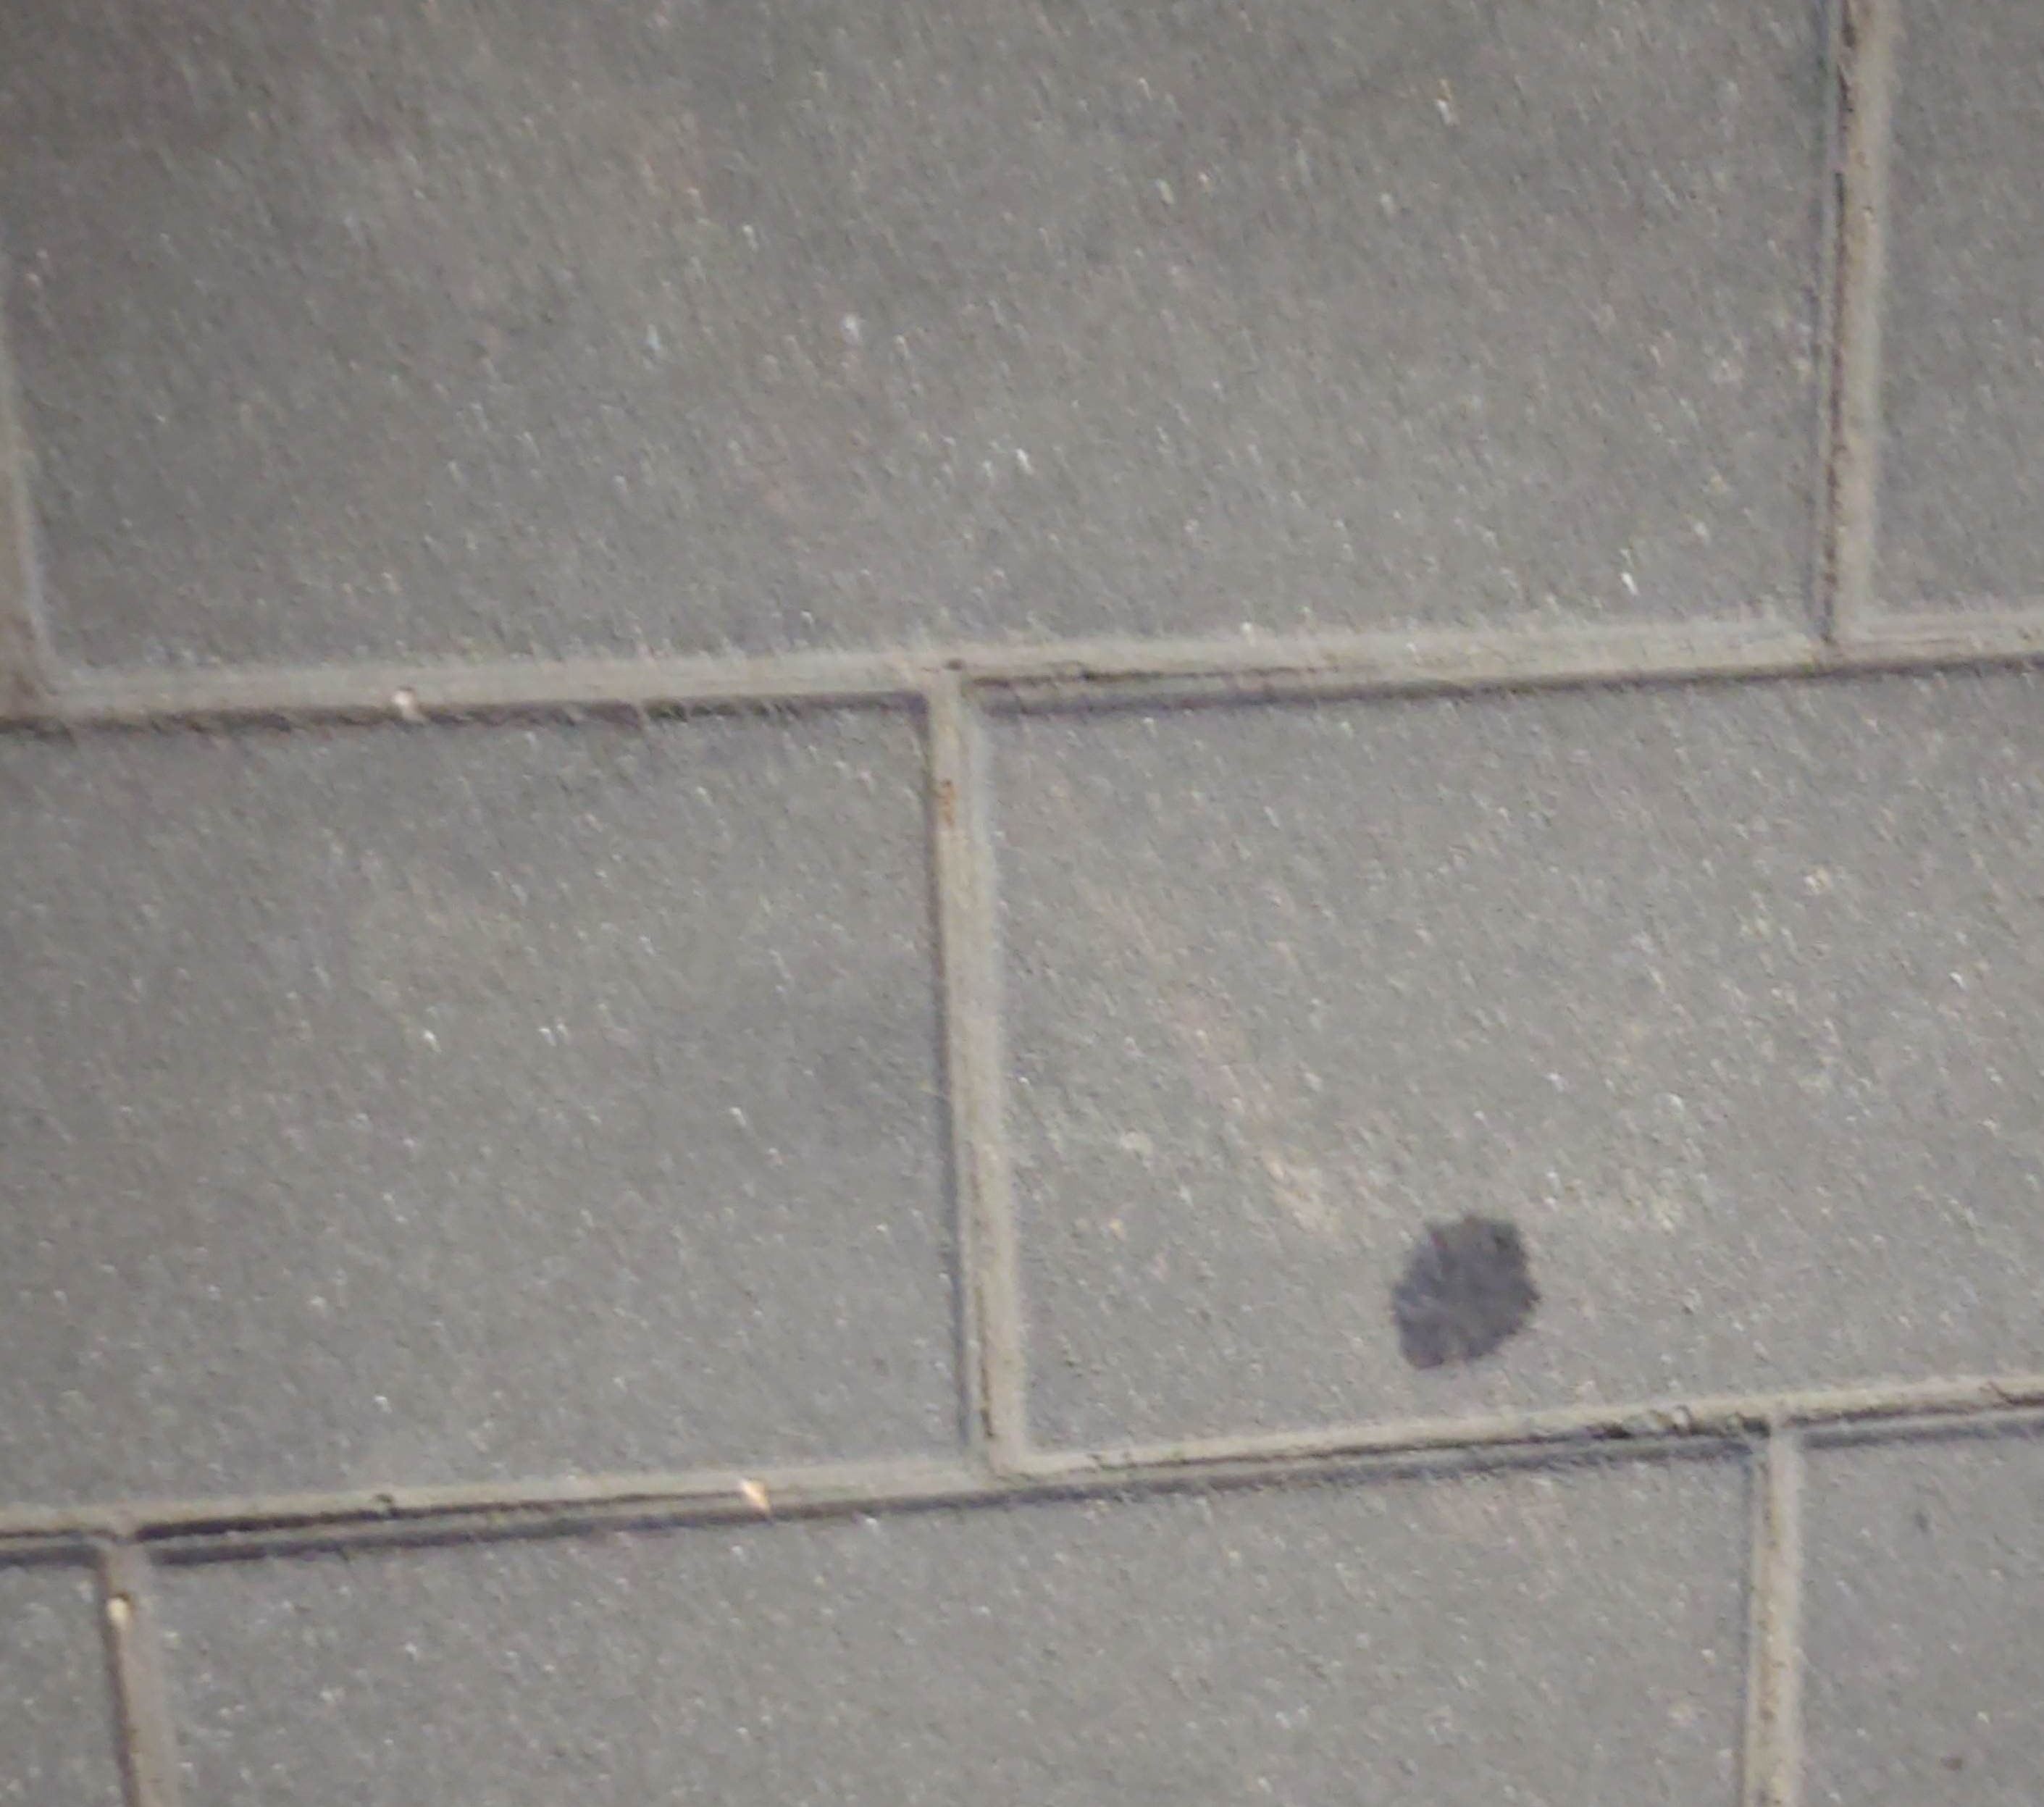grey spot: (1390, 1209, 1540, 1369)
